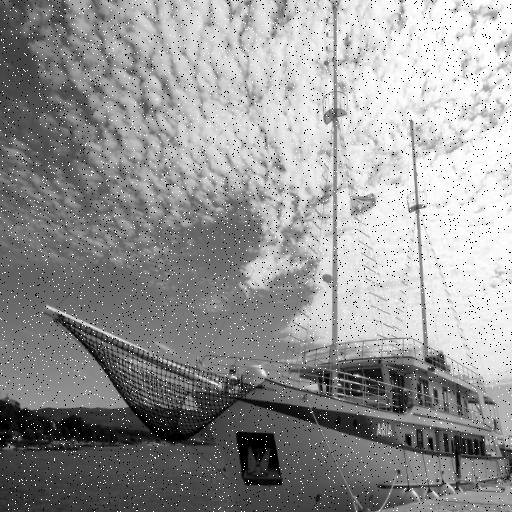cruises: (192, 329, 512, 512)
